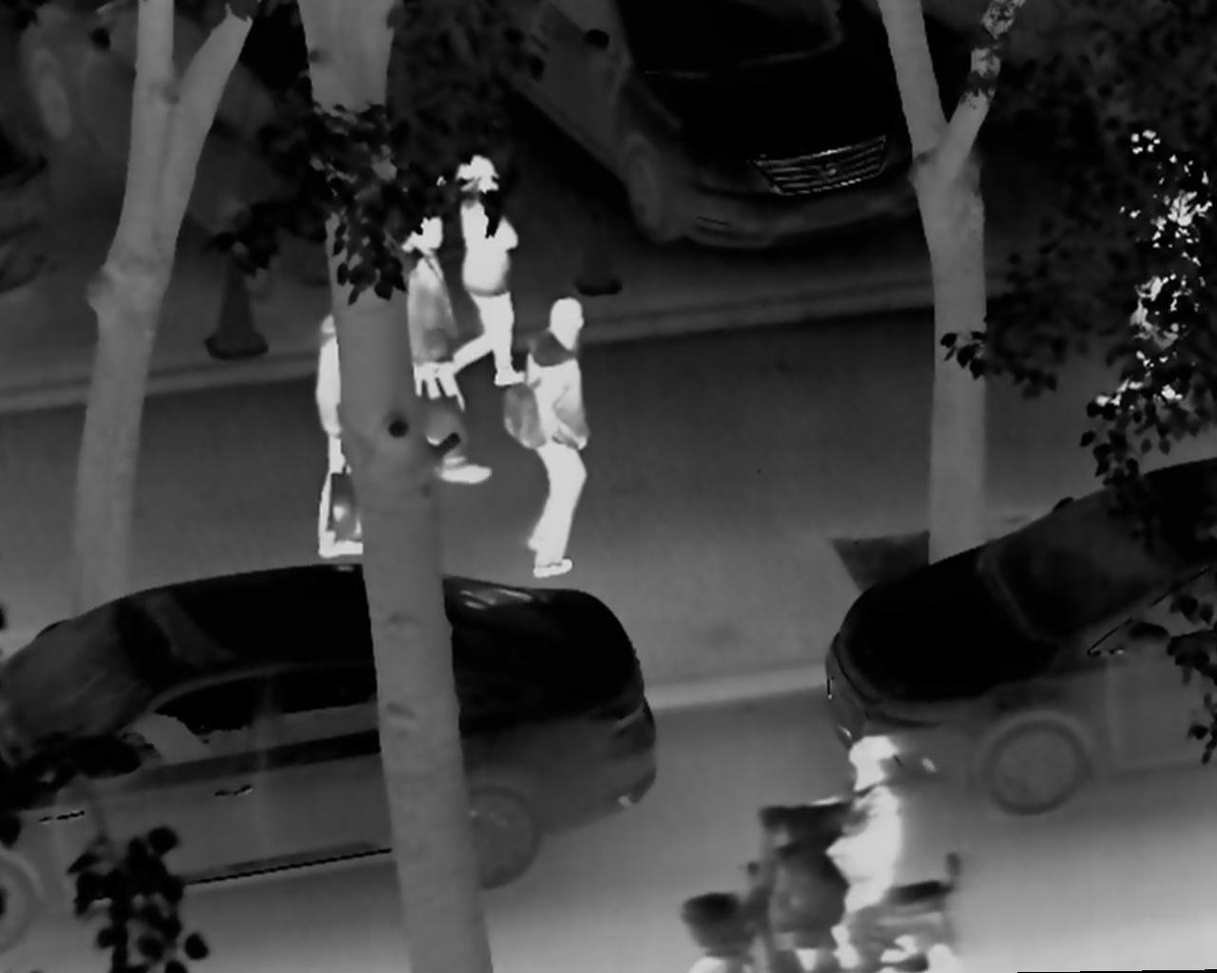person: (1092, 120, 1209, 421), (390, 193, 500, 494), (295, 291, 402, 565), (799, 730, 907, 973), (509, 295, 596, 583), (446, 158, 533, 394)
